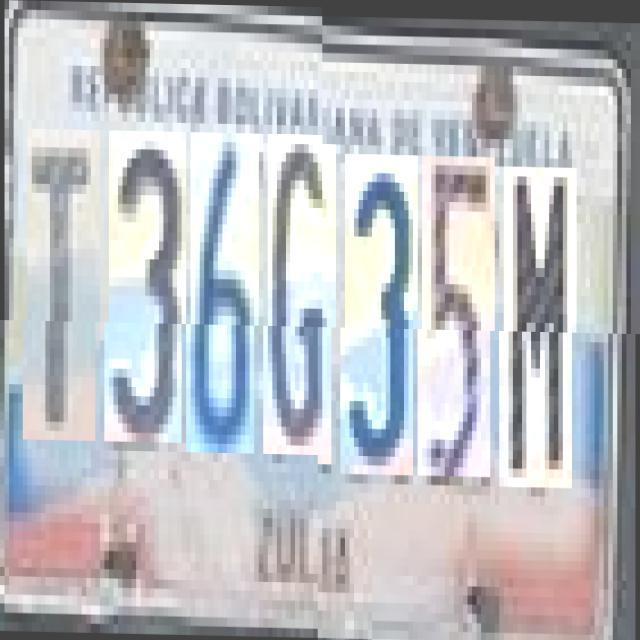3: (109, 139, 186, 451), (345, 152, 418, 474)
5: (422, 154, 495, 475)
6: (190, 140, 258, 462)
G: (268, 142, 336, 463)
M: (504, 164, 576, 486)
T: (27, 138, 100, 450)
